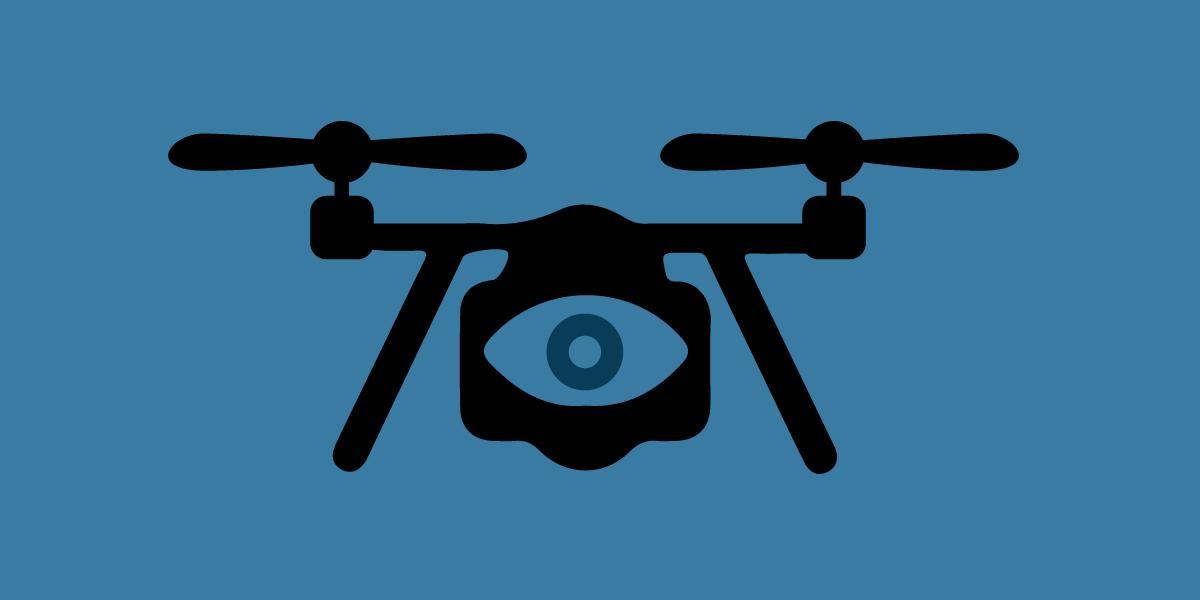drone: (156, 103, 1113, 456)
